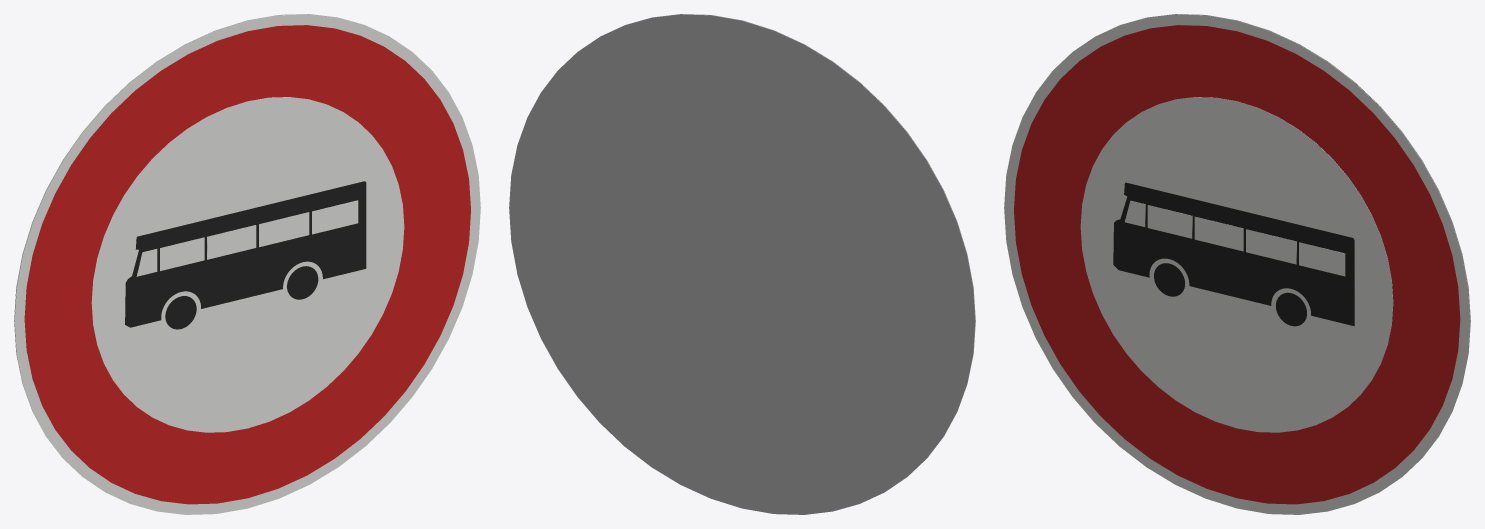
The picture shows the model from 3 angles, left to right: view 1: azimuth 30°, elevation 25°; view 2: azimuth 150°, elevation 25°; view 3: azimuth 330°, elevation 25°; orthographic projection.
Parts seen in each view (by area): view 1: B9f_p01, B9f_p02, B9f_p00, B9f_p05, B9f_p09, B9f_p08, B9f_p10, B9f_p07, B9f_p03, B9f_p04, B9f_dos; view 2: B9f_dos, B9f_p00; view 3: B9f_p01, B9f_p02, B9f_p00, B9f_p05, B9f_p09, B9f_p08, B9f_p10, B9f_p07, B9f_p03, B9f_p04, B9f_dos.
Part boxes in pixels (x1,y1,x2,y2): B9f_p01: [24, 25, 470, 504]; B9f_p02: [91, 97, 404, 432]; B9f_p00: [14, 14, 480, 514]; B9f_p05: [125, 181, 366, 327]; B9f_p09: [259, 212, 309, 247]; B9f_p08: [207, 225, 256, 259]; B9f_p10: [312, 200, 358, 234]; B9f_p07: [160, 237, 204, 270]; B9f_p03: [287, 266, 318, 299]; B9f_p04: [165, 296, 196, 329]; B9f_dos: [14, 14, 385, 473]; B9f_dos: [509, 14, 975, 514]; B9f_p00: [604, 14, 975, 473]; B9f_p01: [1014, 25, 1460, 504]; B9f_p02: [1080, 97, 1393, 432]; B9f_p00: [1004, 14, 1470, 514]; B9f_p05: [1113, 182, 1354, 326]; B9f_p09: [1246, 229, 1296, 264]; B9f_p08: [1194, 216, 1243, 251]; B9f_p10: [1299, 242, 1345, 276]; B9f_p07: [1147, 205, 1192, 238]; B9f_p03: [1275, 292, 1306, 326]; B9f_p04: [1154, 263, 1185, 296]; B9f_dos: [1099, 14, 1470, 473].
Size of the model in its own units: 0.85 by 0.8498 by 0.0059.
